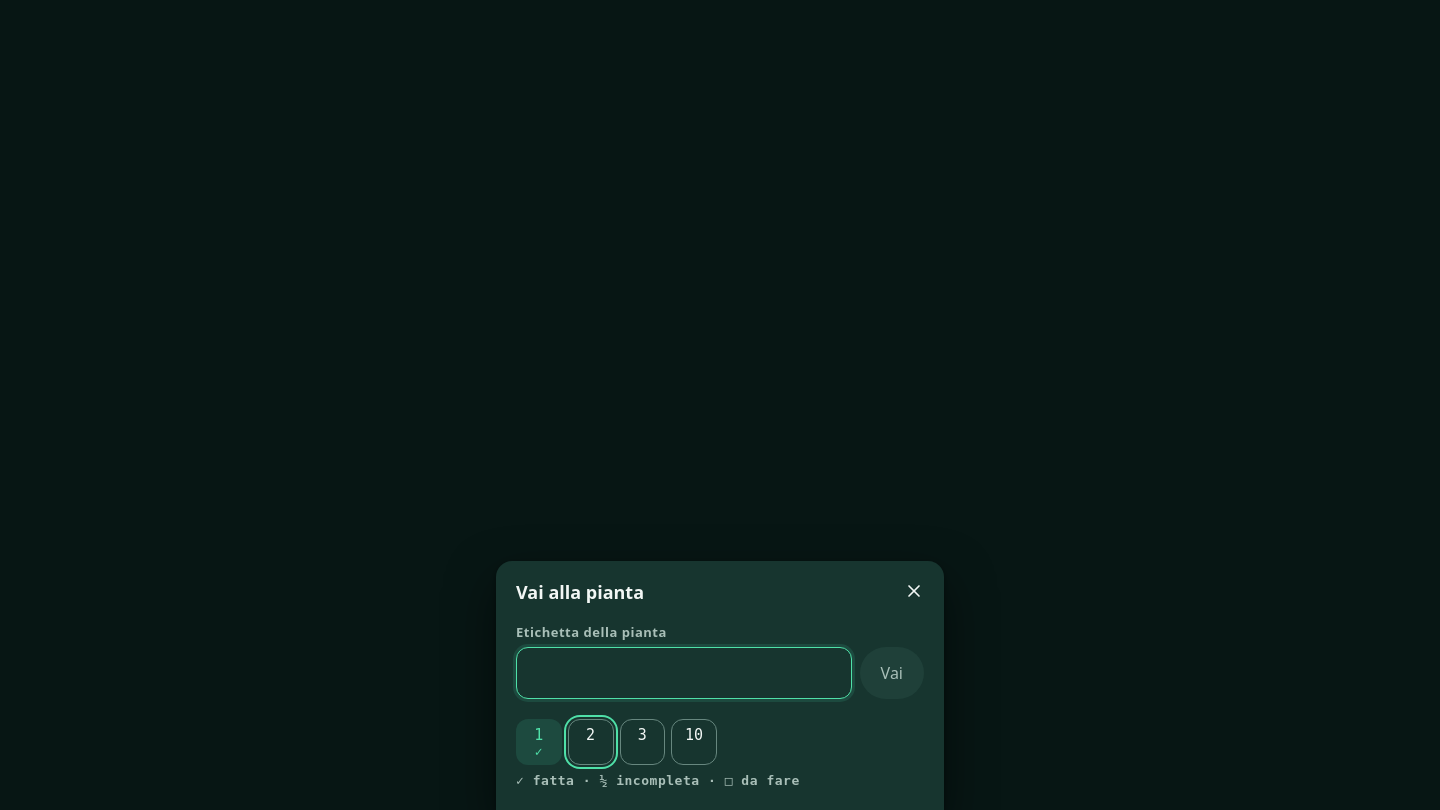
it: FoglioPiante › una pianta che non c'è: resta aperto e lo dice
Type "999" into the field labelled "Etichetta della pianta" at point(684, 673), box x1=516 y1=647 x2=852 y2=699
Then press Enter
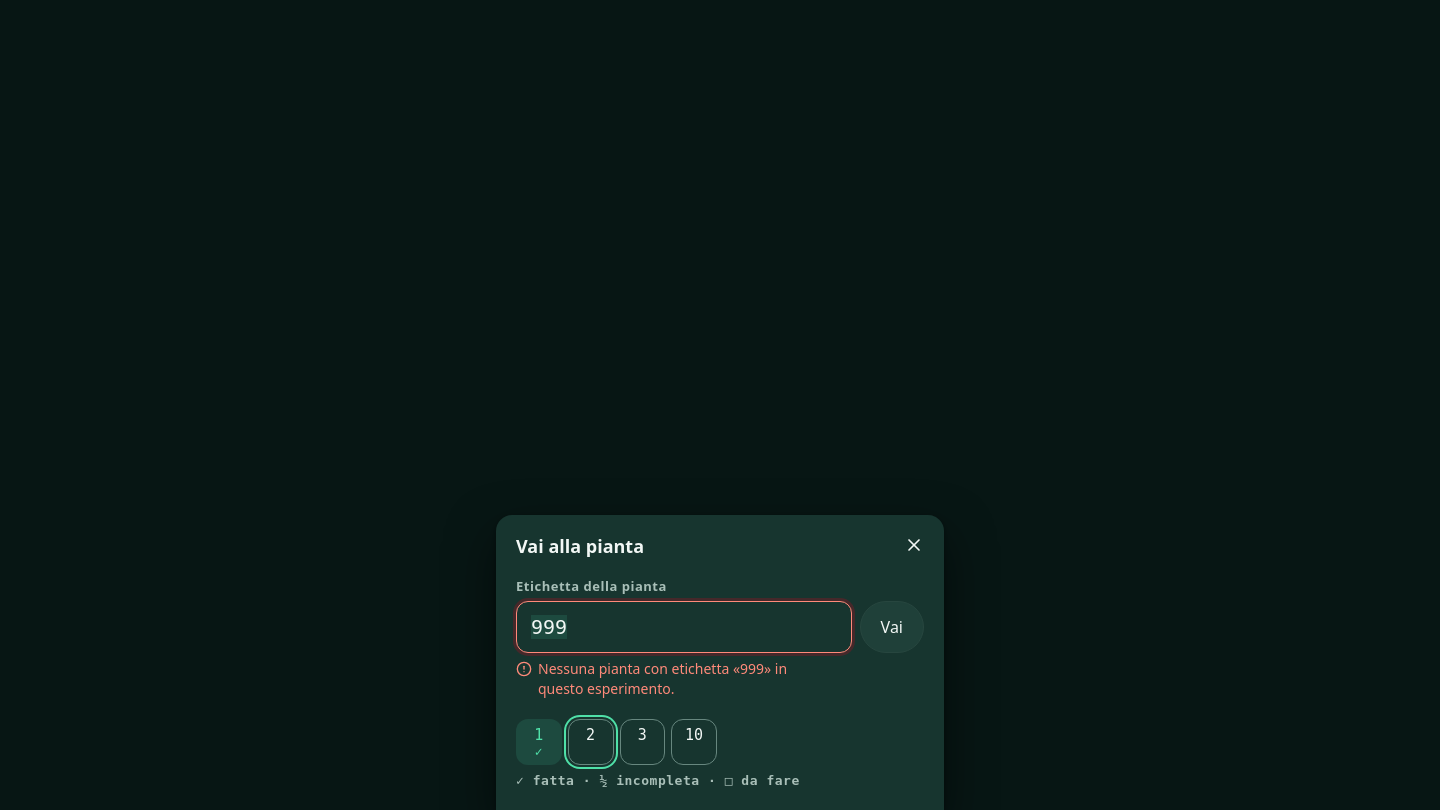
Result: the message reads "Nessuna pianta con etichetta «999» in questo esperimento." at x1=538 y1=659 x2=787 y2=698
Type keys "7"
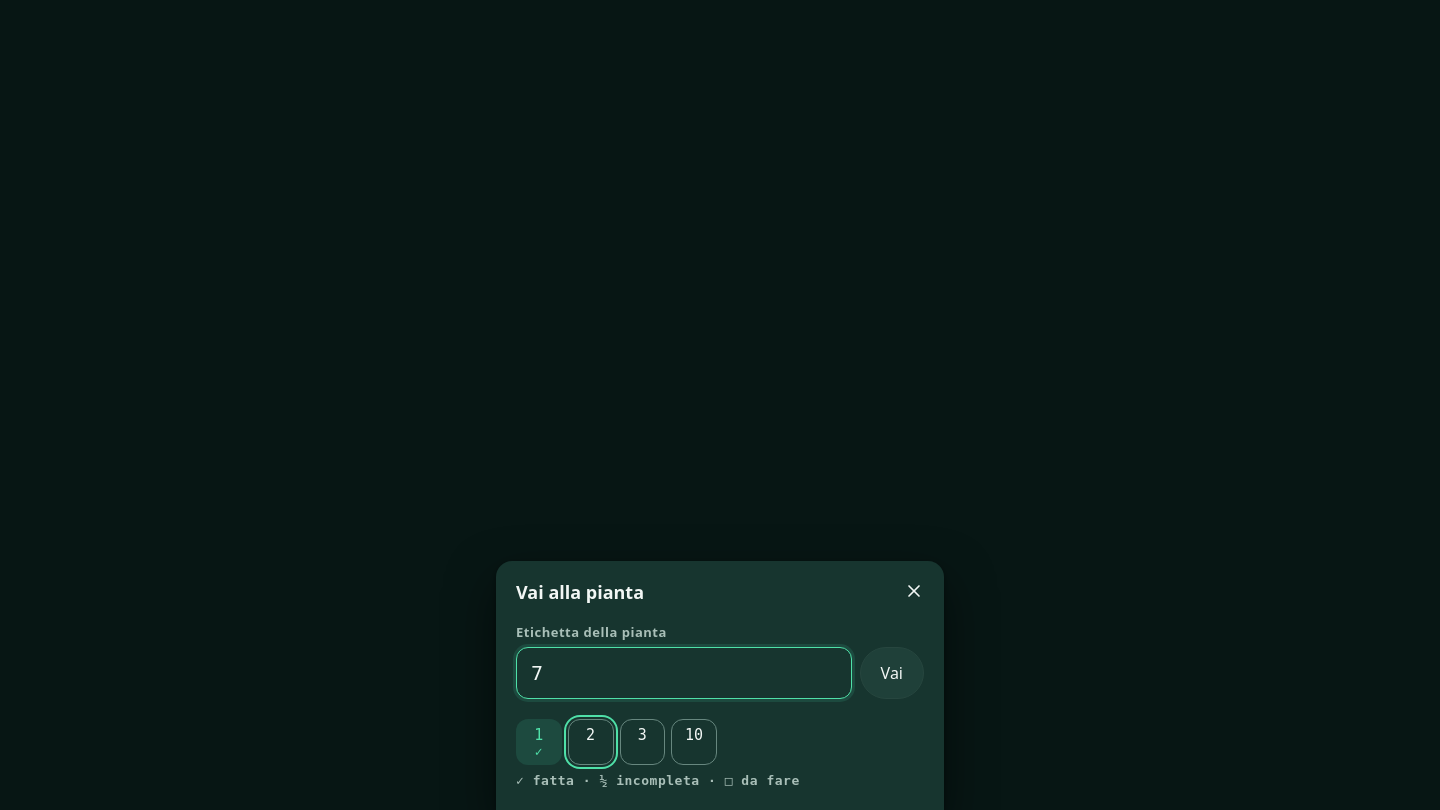
Result: the message "Nessuna pianta con etichetta «999» in questo esperimento." is gone
